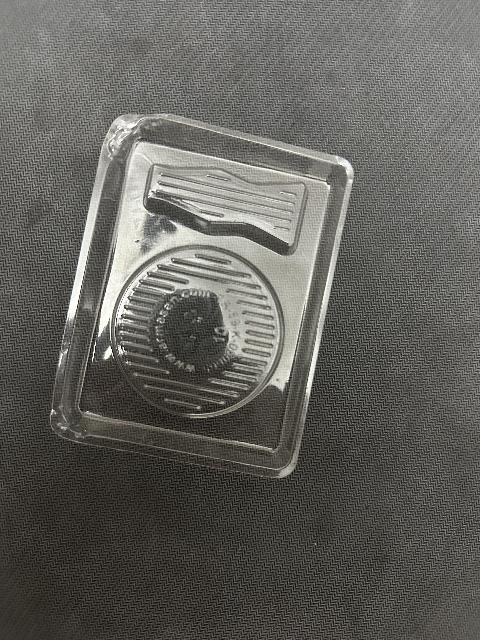Plastik: (56, 114, 349, 481)
